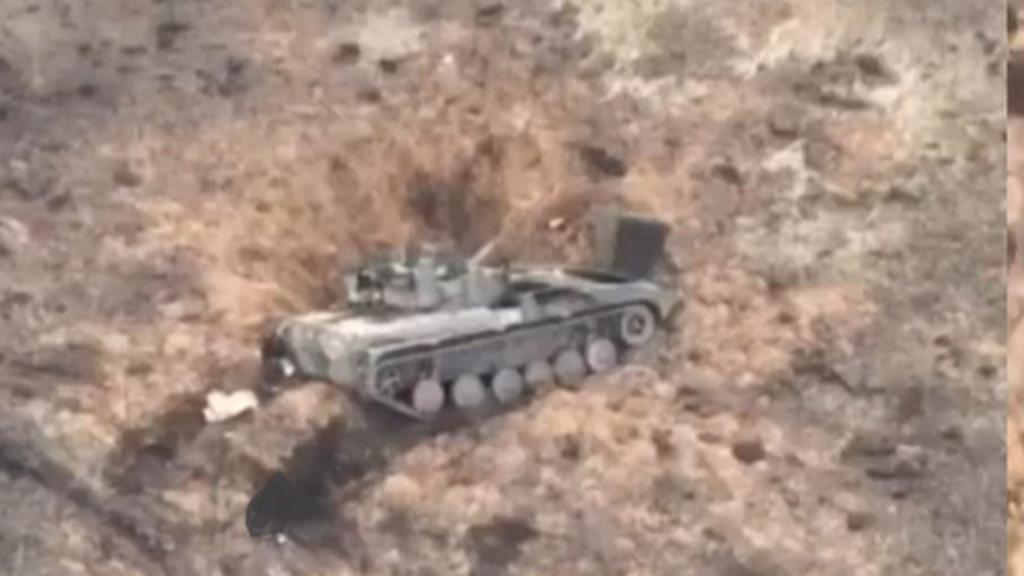APC-IFV: (266, 222, 678, 420)
